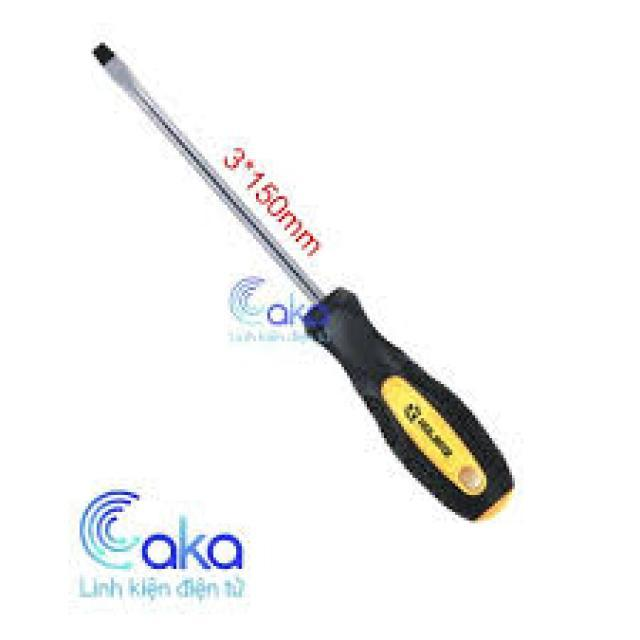screwdriver: (84, 37, 514, 538)
